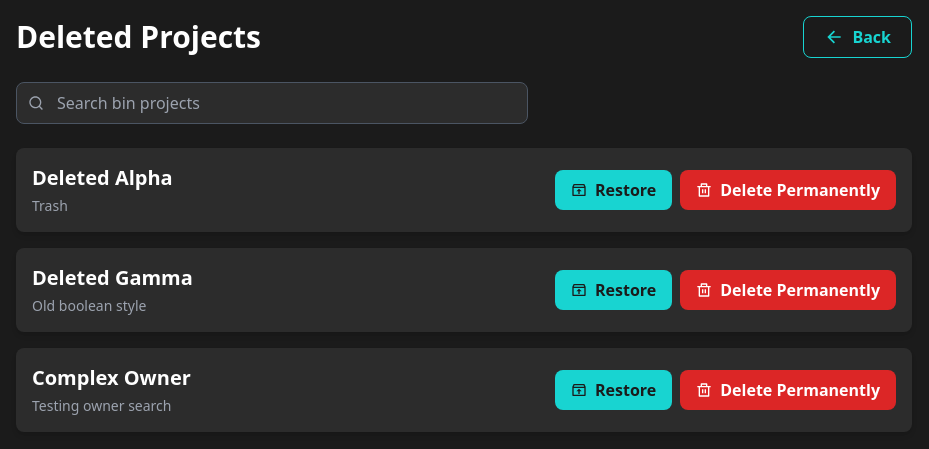
it: BinPage Component › filters projects via search (Name and Owner)
Check: the button "Deleted Alpha" is shown, box [32, 164, 173, 192]
Note: Filter by Owner Username
Type "complex" into the field with placeholder "Search bin projects". click: (272, 103)
box: [16, 82, 528, 124]
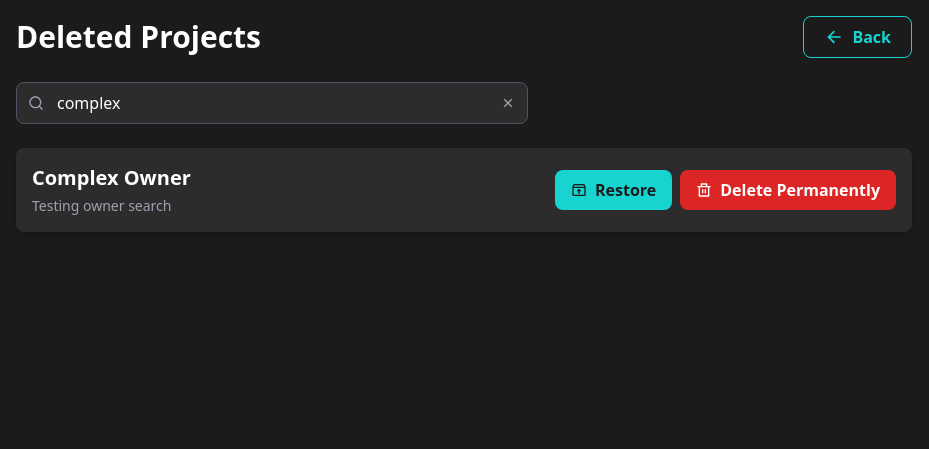
Check: the button "Complex Owner" is shown, box [32, 164, 191, 192]
Check: the button "Deleted Alpha" is gone
Note: Clear search
Clear the field with placeholder "Search bin projects". click: (272, 103)
box: [16, 82, 528, 124]
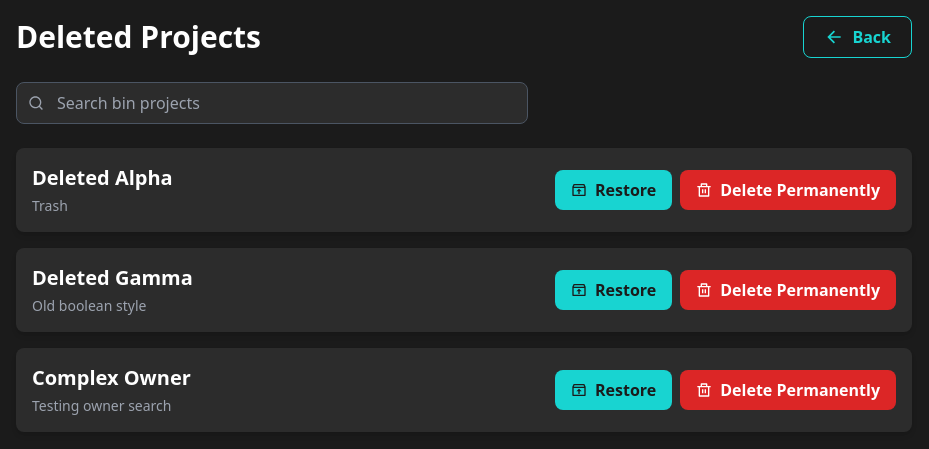
Check: the button "Deleted Alpha" is shown, box [32, 164, 173, 192]
Note: Filter by Description
Type "boolean" into the field with placeholder "Search bin projects". click: (272, 103)
box: [16, 82, 528, 124]
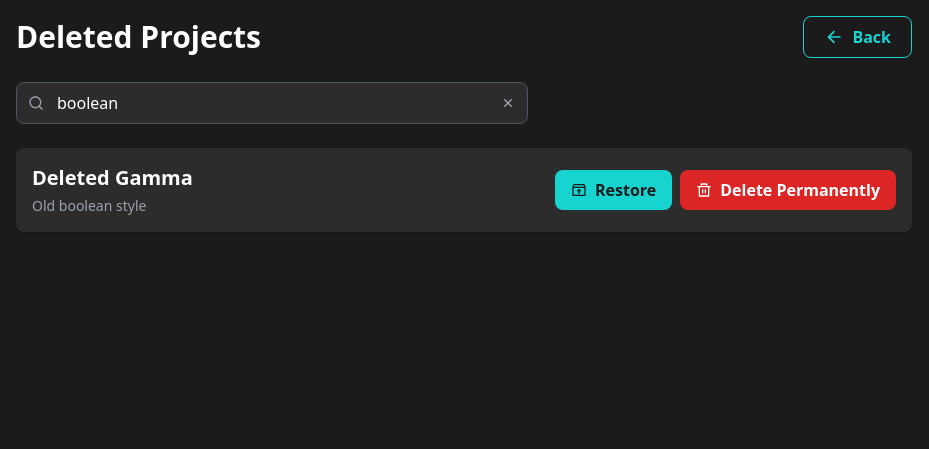
Check: the button "Deleted Gamma" is shown, box [32, 164, 193, 192]
Check: the button "Deleted Alpha" is gone
